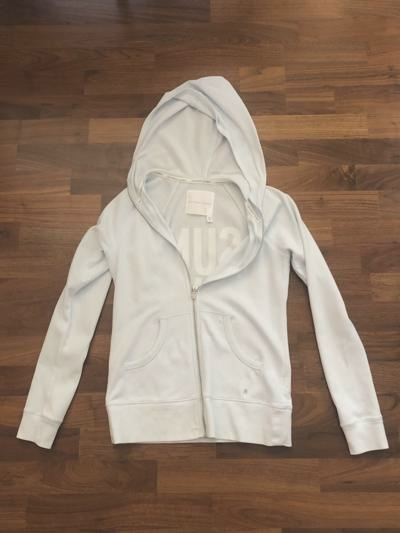Hoodie: (3, 74, 392, 474)
